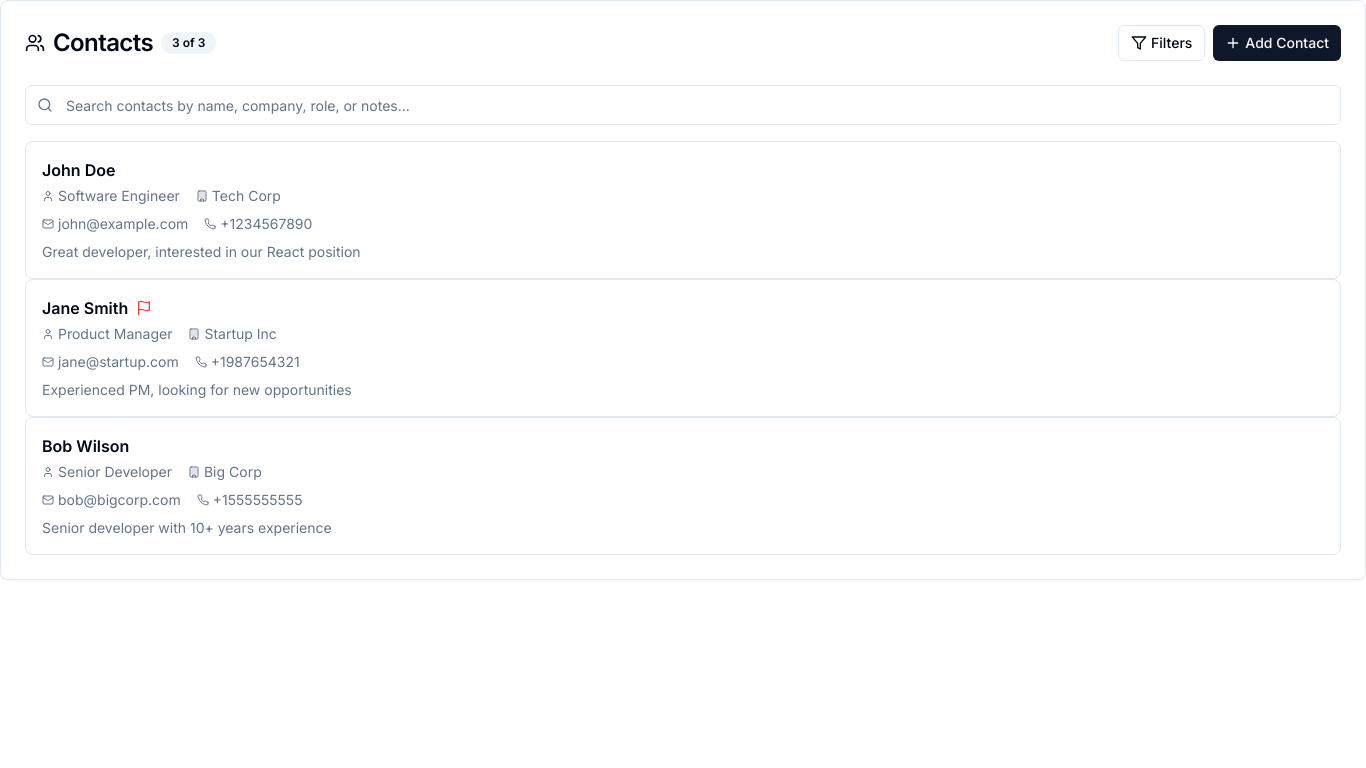
ContactList › Filter Functionality › should filter by flagged contacts only
This screenshot has width=1366, height=768.
Note: Open filters
What coordinates should you click on to do the following:
click the button "Filters"
I would click on:
 (1162, 43)
Its box is 1118,25 -> 1205,61.
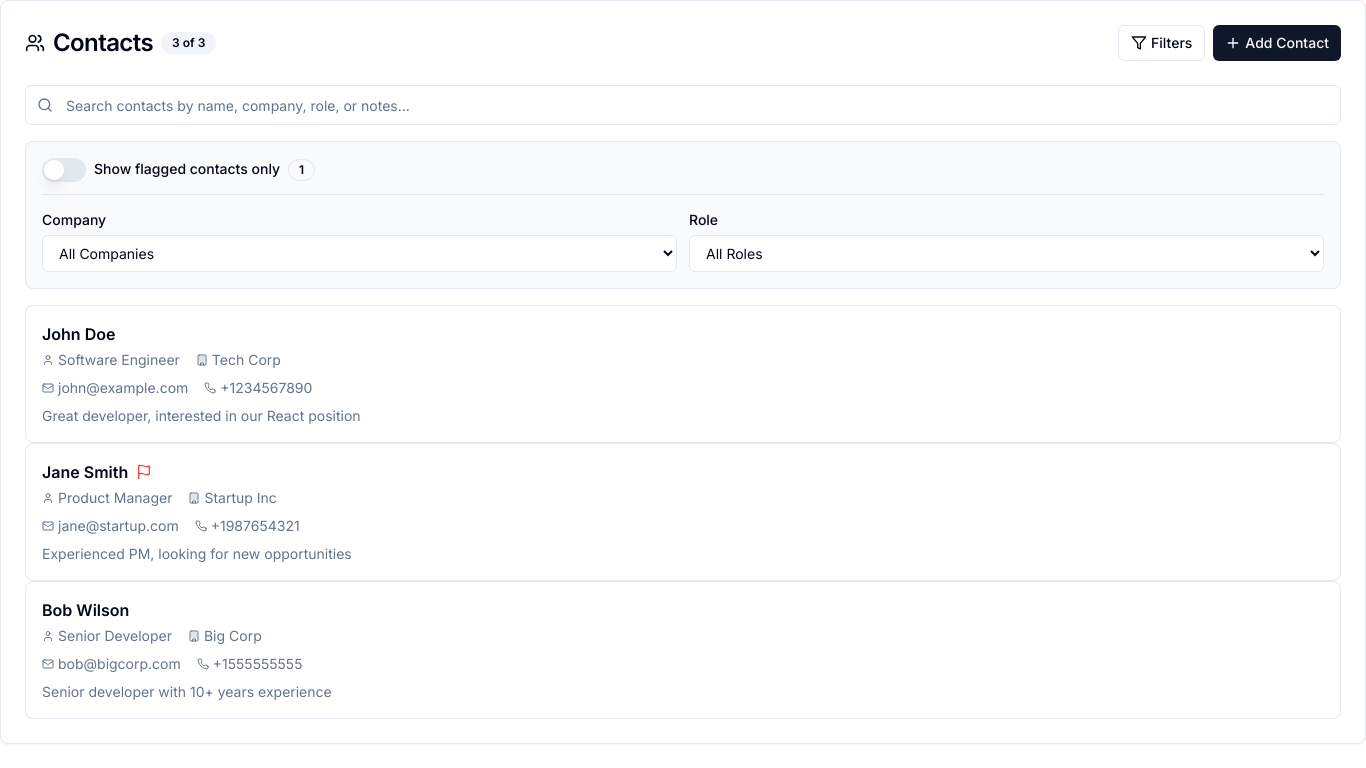
Note: Toggle flagged only
What coordinates should you click on to do the following:
click the switch named "show flagged contacts only"
I would click on:
 (64, 170)
Its box is 42,158 -> 86,182.
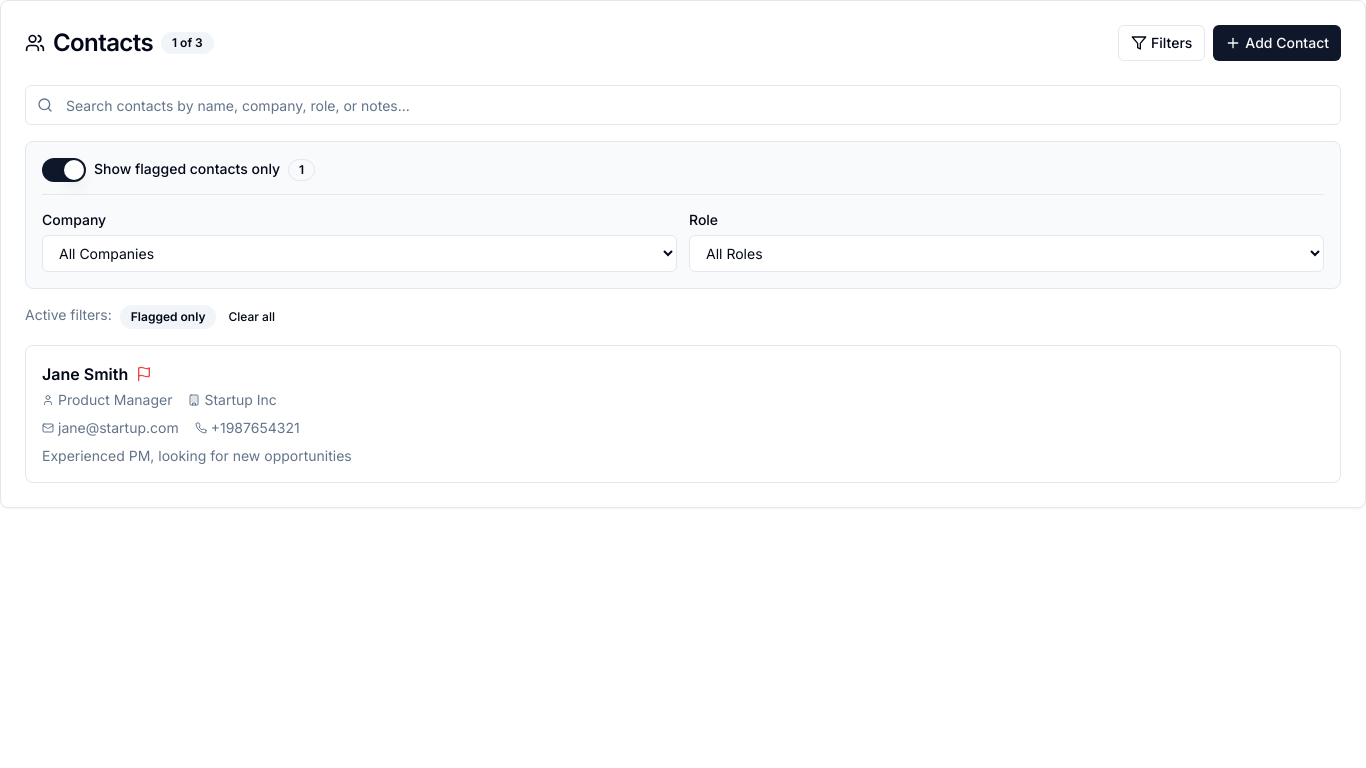
Result: the link "John Doe" is gone
Result: the link "Bob Wilson" is gone
Result: the text "1 of 3" is shown at 161,32 -> 214,54
